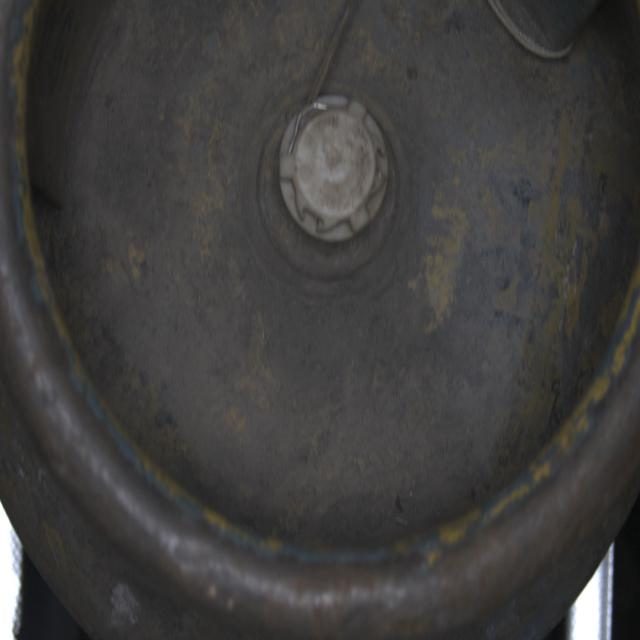Cap: (278, 94, 397, 250)
